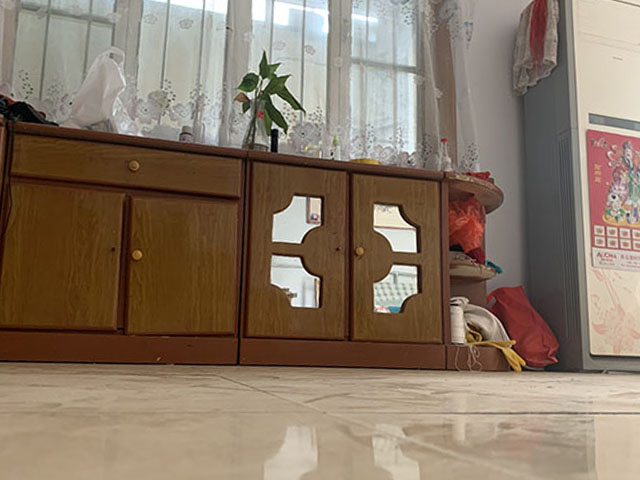cabinet: (1, 121, 504, 371)
